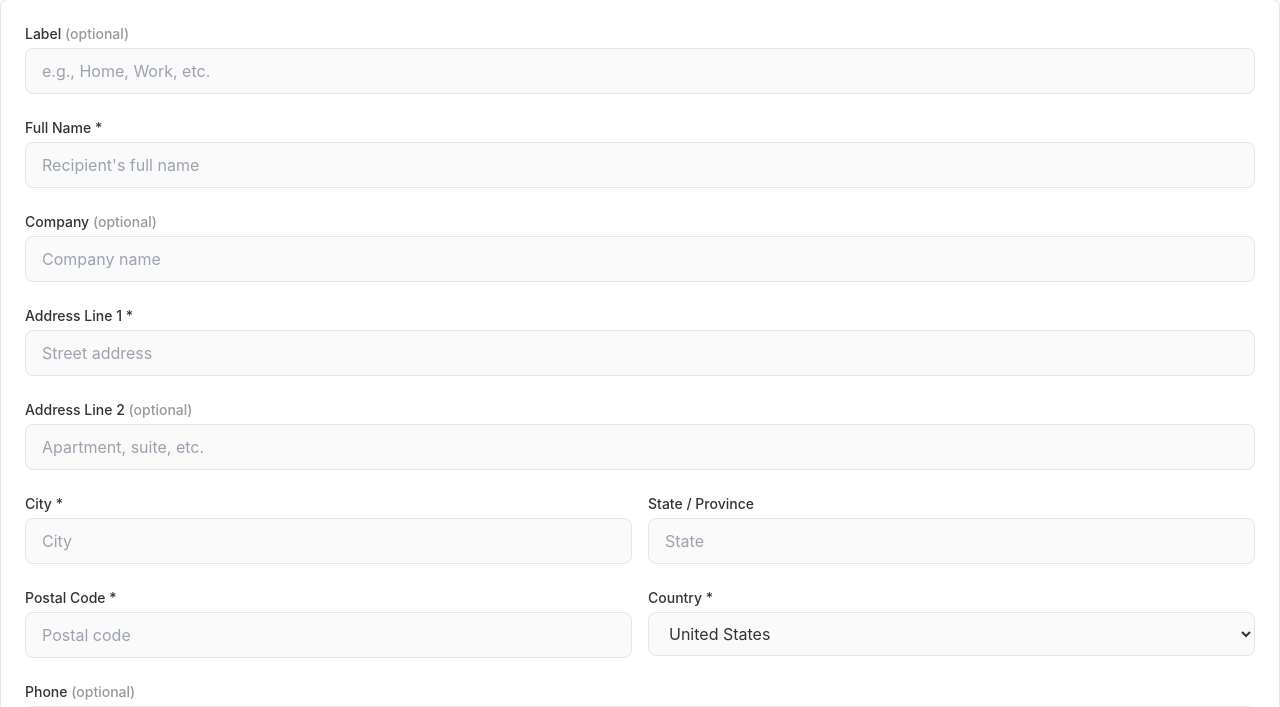
Scenario: AddressForm › form validation › shows error for empty line1 field
The image size is (1280, 707).
In the field labelled "Full Name *": (640,165) [25,142,1255,188], type "John Doe"
(page scrolled)
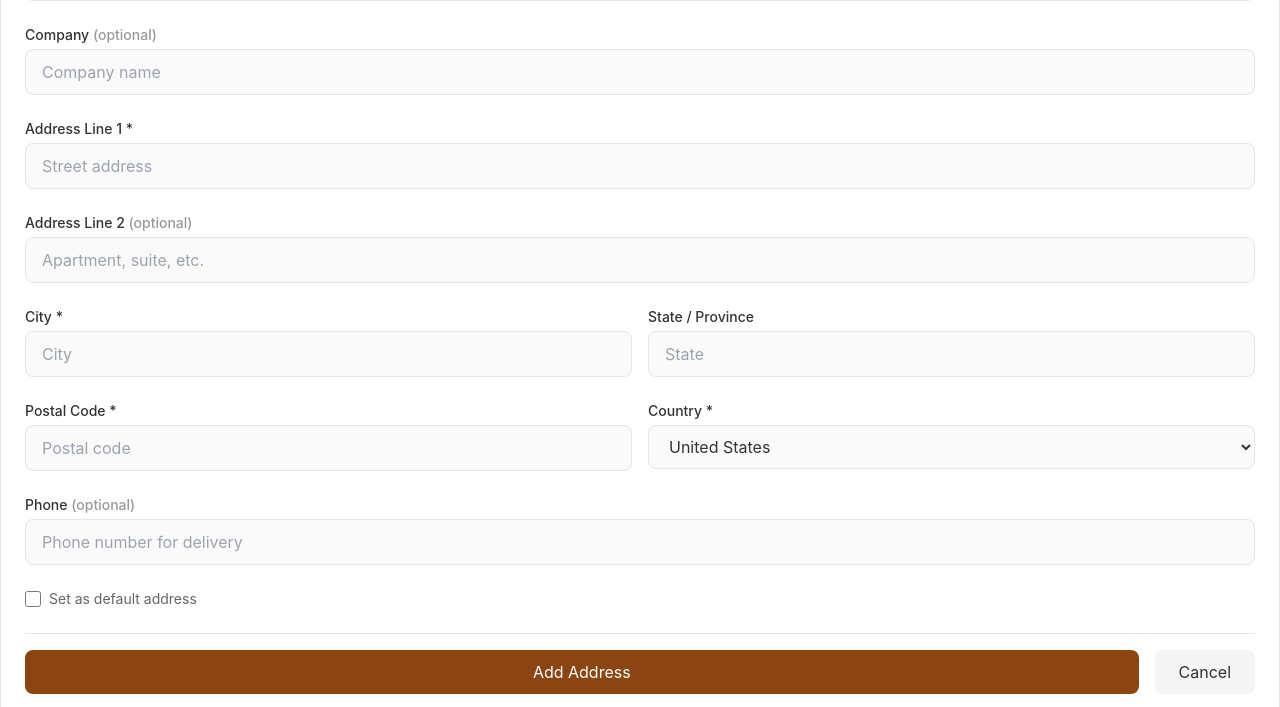
Click the button "Add Address": (582,672) [25,650,1138,694]
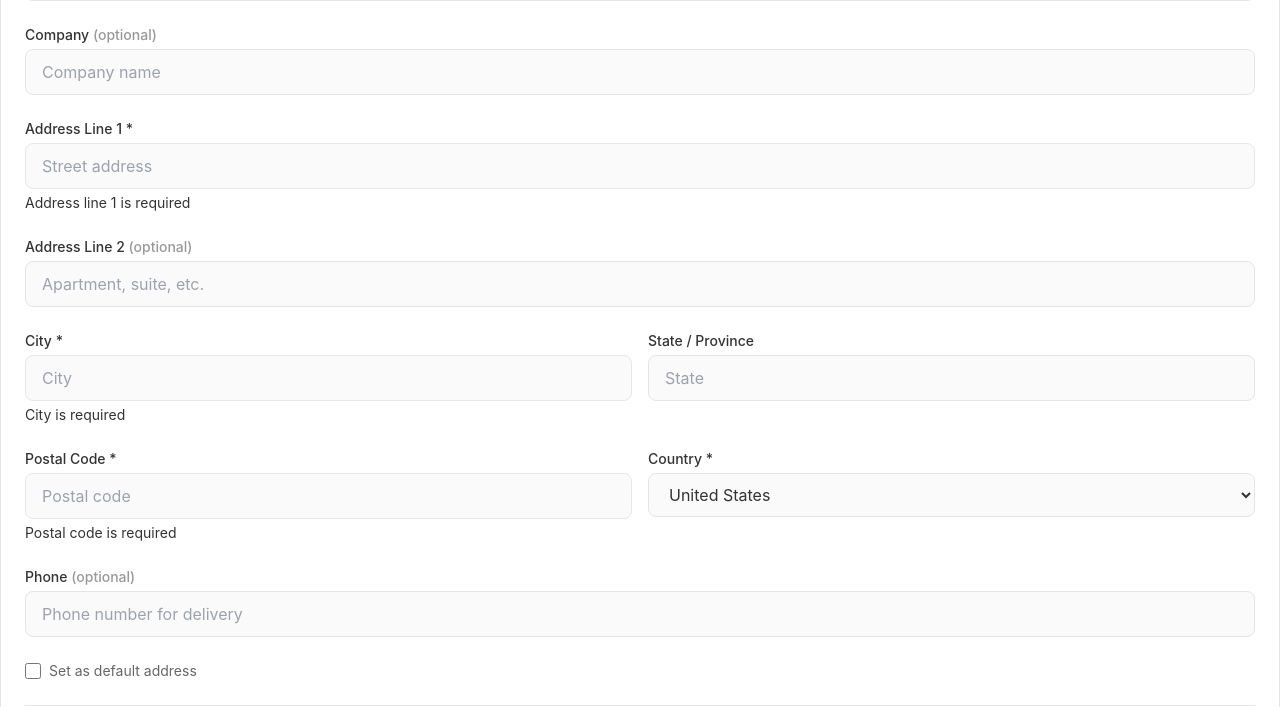
expect the text "Address line 1 is required" is shown: met, box [25,194,190,211]
